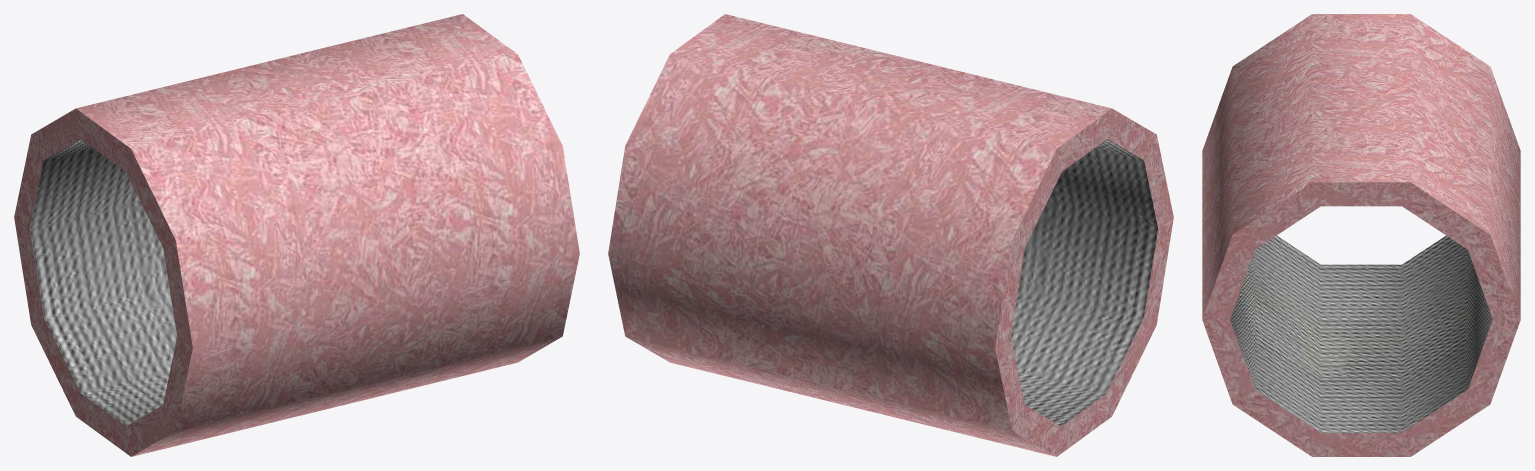
File: CoiledBar_RedL.fbx
The picture shows the model from 3 angles, left to right: view 1: azimuth 30°, elevation 25°; view 2: azimuth 150°, elevation 25°; view 3: azimuth 270°, elevation 25°; orthographic projection. The views are drawn at different scales.
Parts seen in each view (by area): view 1: CoiledBar_RedL; view 2: CoiledBar_RedL; view 3: CoiledBar_RedL.
Boxes of the visible parts, x1=… form: CoiledBar_RedL: x1=14, y1=14, x2=579, y2=456; CoiledBar_RedL: x1=608, y1=14, x2=1173, y2=456; CoiledBar_RedL: x1=1202, y1=14, x2=1520, y2=456.
Bounding box in the file's own units: 1.5 × 1.14 × 1.2.
2 materials, 2 textured.
